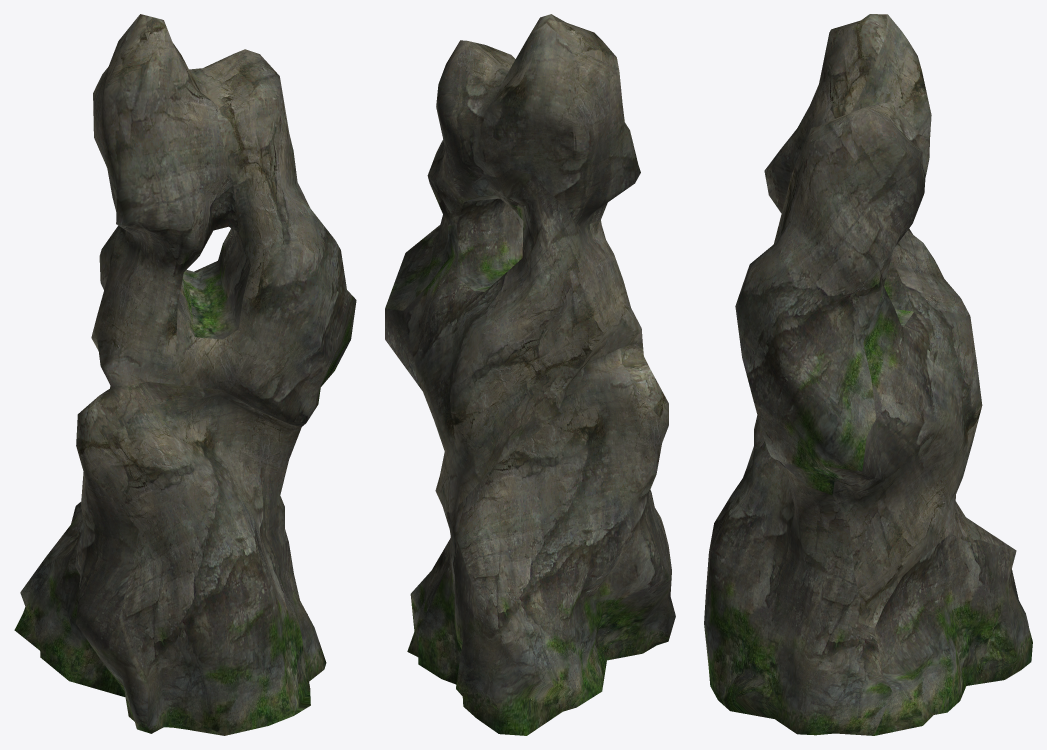
Rendered from stone_013.FBX.
3 views of the same model, side by side, from view 1: azimuth 30°, elevation 25°; view 2: azimuth 150°, elevation 25°; view 3: azimuth 270°, elevation 25° (orthographic).
Parts seen in each view (by area): view 1: stone_013_01; view 2: stone_013_01; view 3: stone_013_01.
Part boxes in pixels (left/top/right/bottom): stone_013_01: left=14, top=14, right=356, bottom=735; stone_013_01: left=385, top=14, right=675, bottom=735; stone_013_01: left=704, top=14, right=1032, bottom=735.
Bounding box in the file's own units: 7.24 × 16.72 × 7.54.
